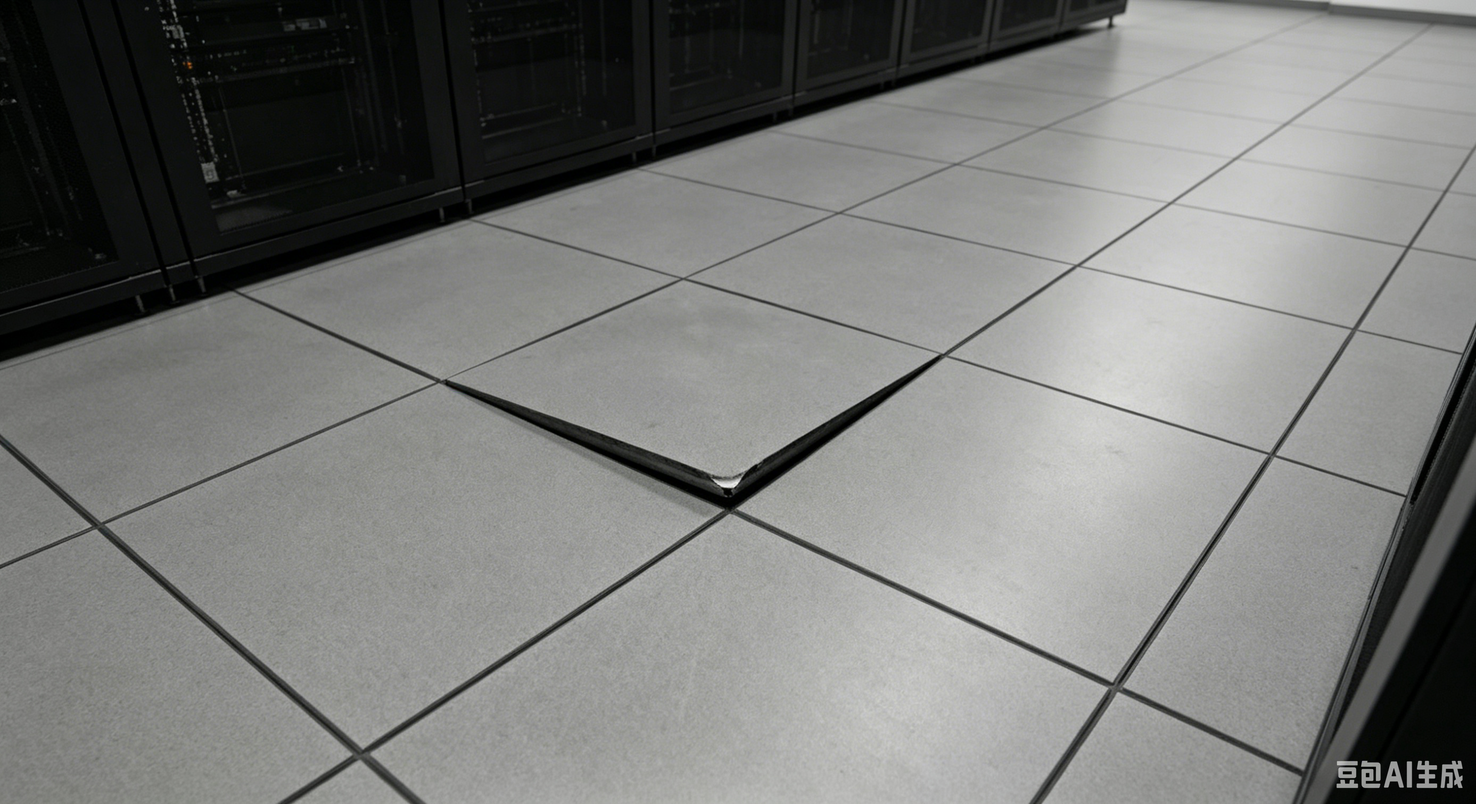floor_defect: (459, 376, 808, 514), (809, 355, 942, 453)
